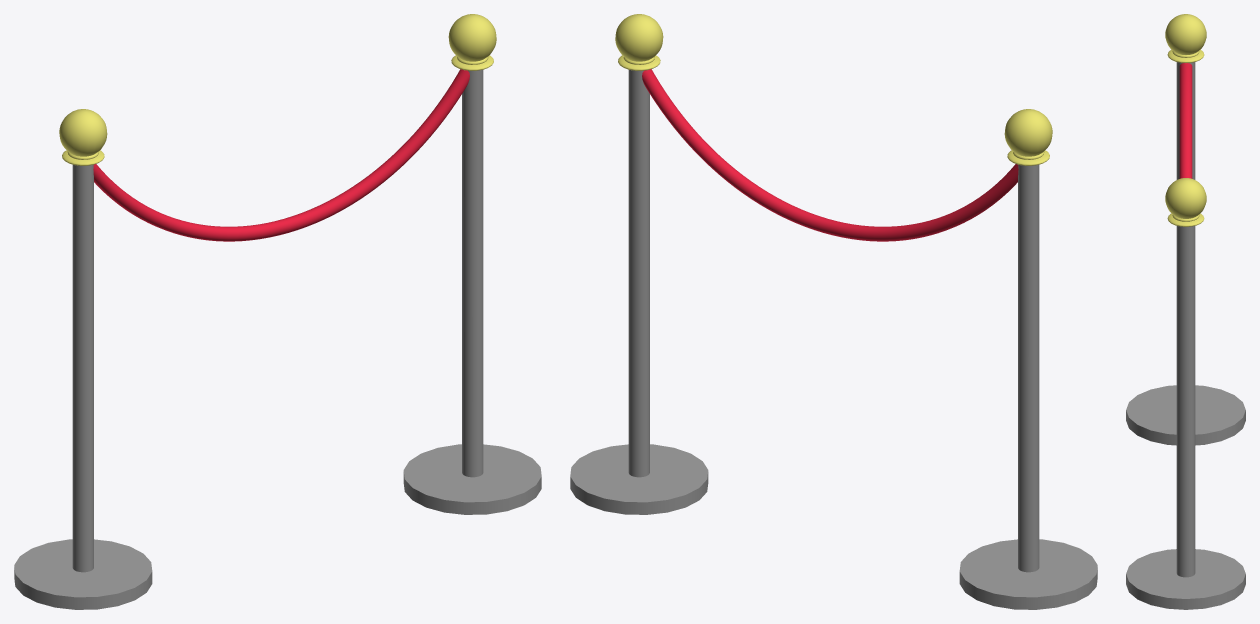
Rendered from ropeStanchion.fbx.
The picture shows the model from 3 angles, left to right: view 1: azimuth 30°, elevation 25°; view 2: azimuth 150°, elevation 25°; view 3: azimuth 270°, elevation 25°; orthographic projection. The views are drawn at different scales.
Visible parts, largest first — view 1: Stanchion B; view 2: Stanchion B; view 3: Stanchion B.
Boxes of the visible parts, box(x1,y1,x2,y2) form: Stanchion B: box(14, 14, 541, 609); Stanchion B: box(570, 14, 1097, 609); Stanchion B: box(1126, 14, 1245, 609).
Size of the model in its own units: 1208 by 1063 by 285.
